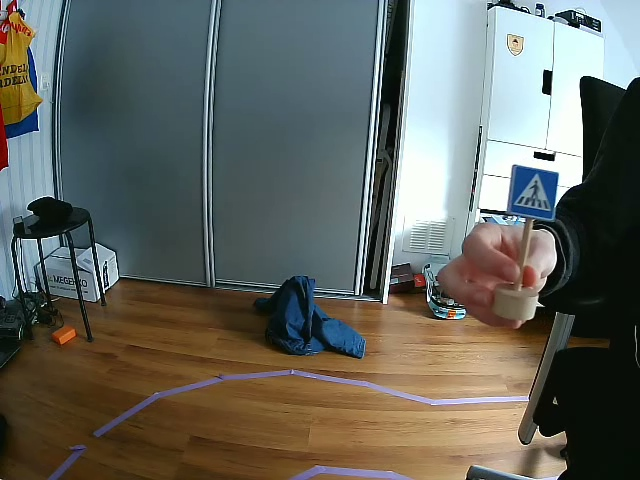zebrapad: (506, 165, 560, 219)
